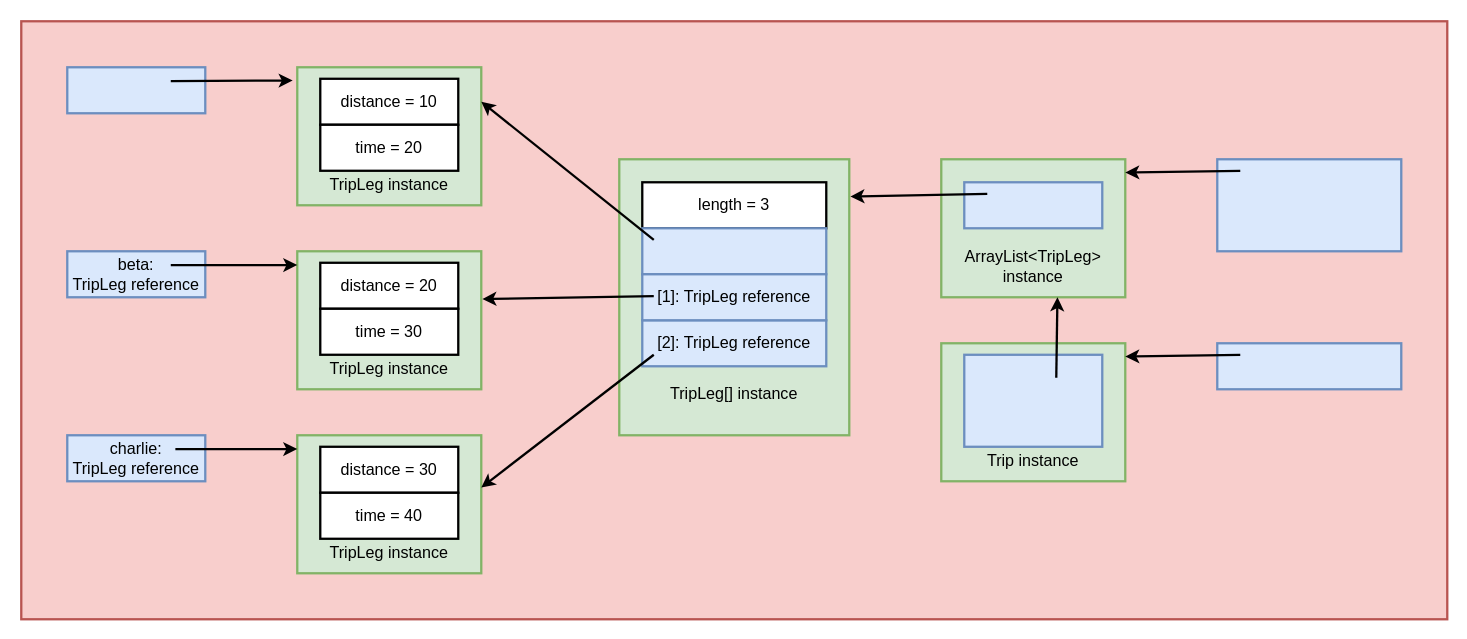
The diagram is 1467 pixels wide and 639 high, and some of its shapes have lost their labels. Each missing label, with the centre of its shape:
[0]: TripLeg reference: (x=734, y=251)
alpha: TripLeg reference: (x=136, y=90)
delta: ArrayList<TripLeg> reference: (x=1309, y=205)
echo: Trip reference: (x=1309, y=366)
elements: TripLeg[] reference: (x=1033, y=205)
legs: ArrayList<TripLeg> reference: (x=1033, y=400)
